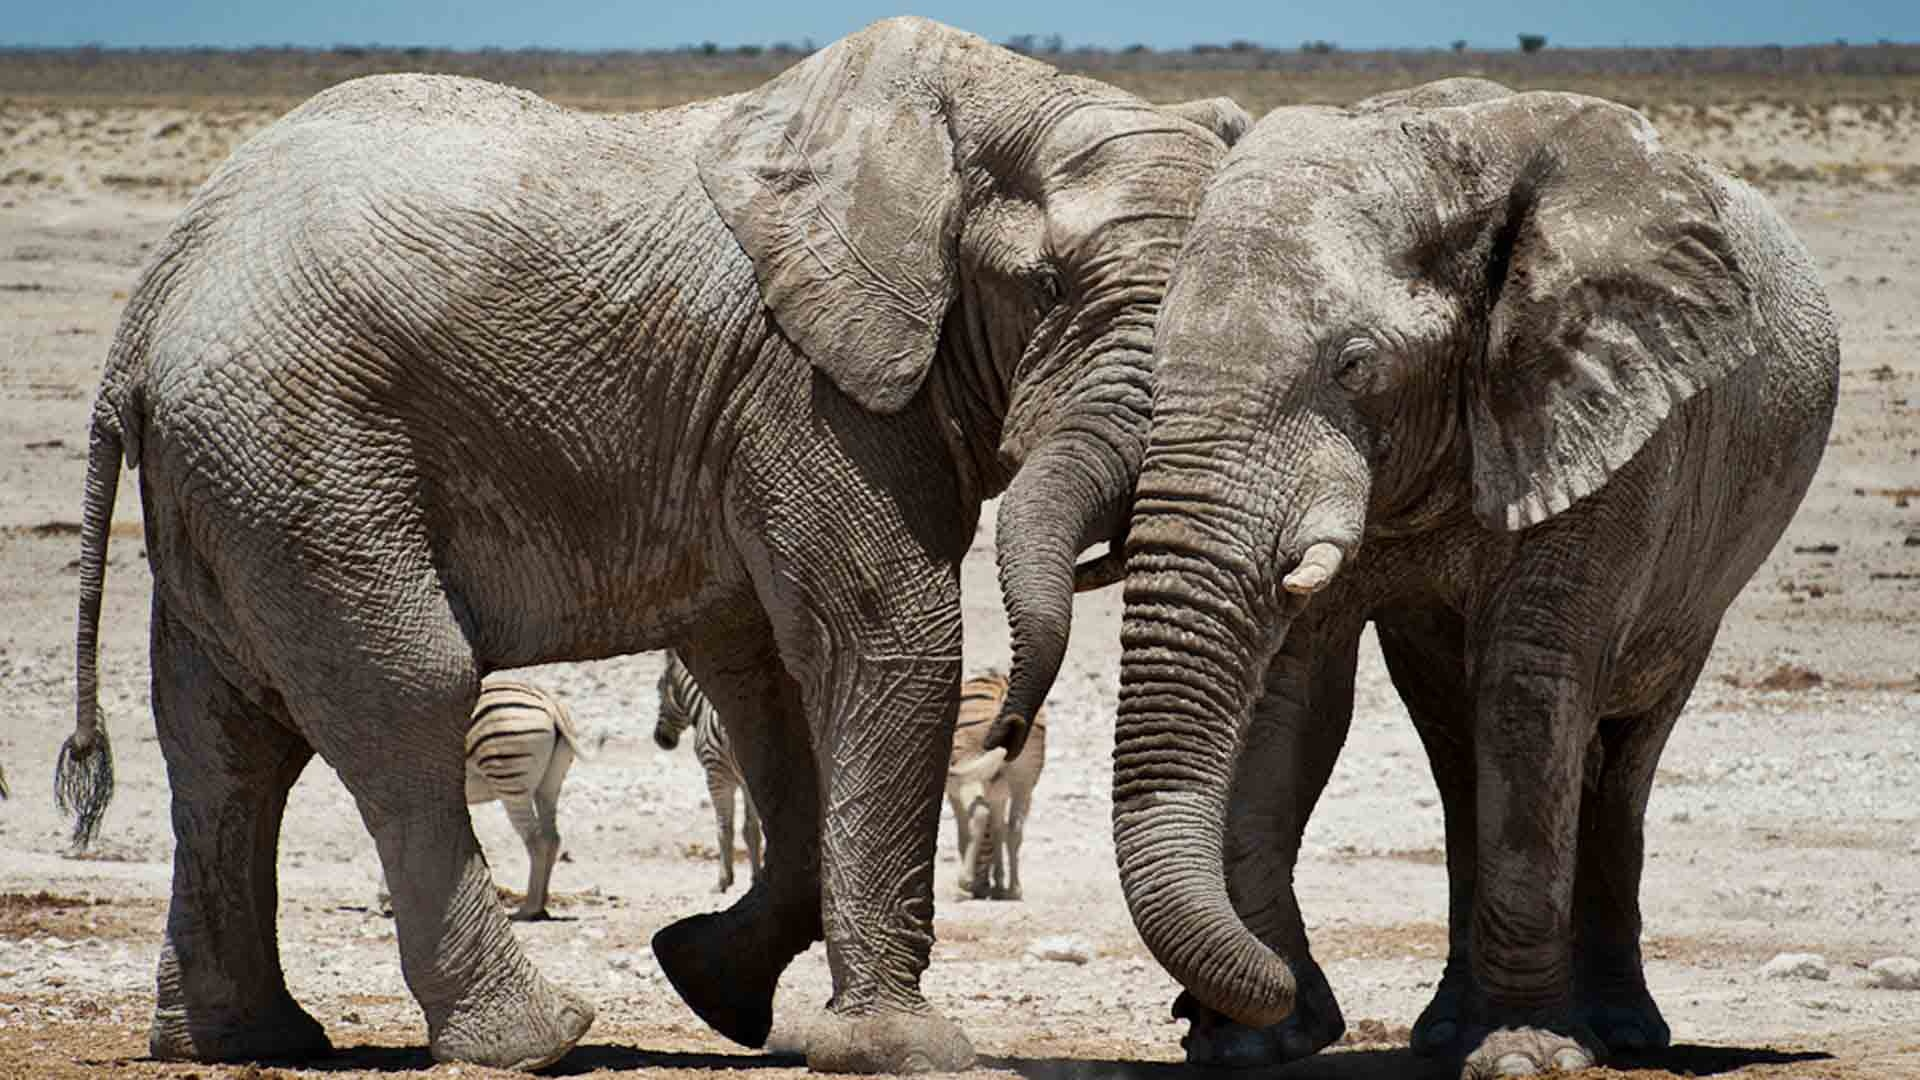elephant: (82, 11, 1255, 1042), (1125, 76, 1844, 1072)
zebra: (436, 665, 589, 919)
